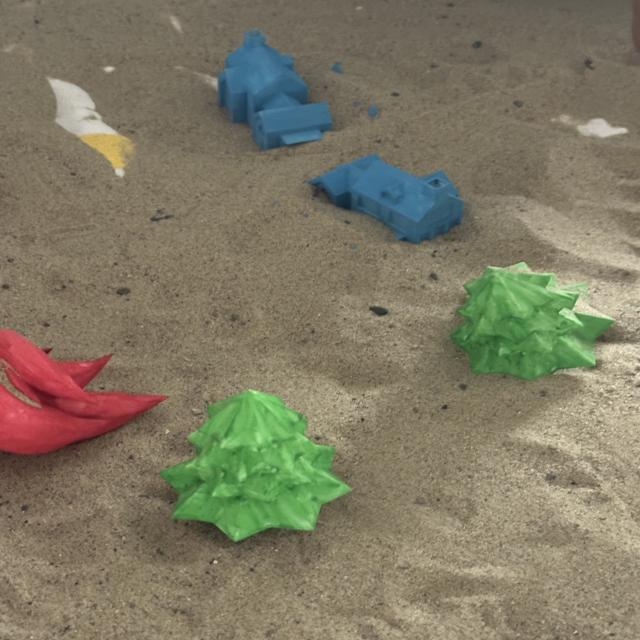fire: (1, 327, 170, 456)
house: (218, 32, 385, 151), (306, 151, 466, 244)
tree: (158, 387, 353, 543), (453, 262, 615, 382)
